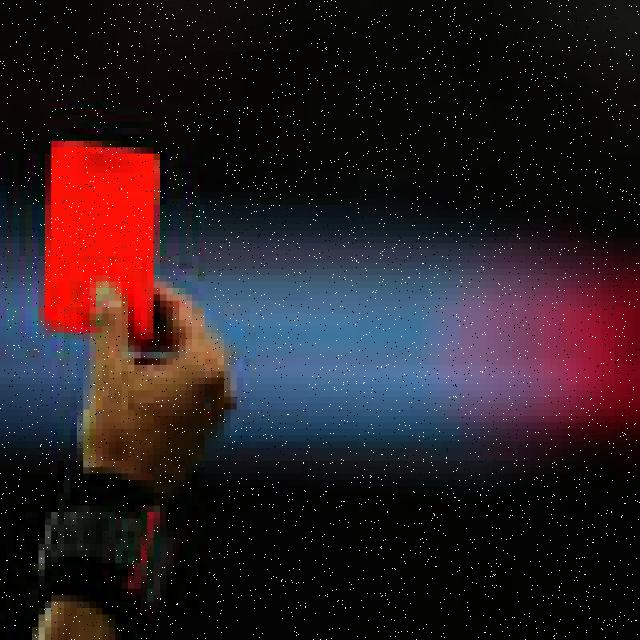red-card: (30, 131, 248, 640)
